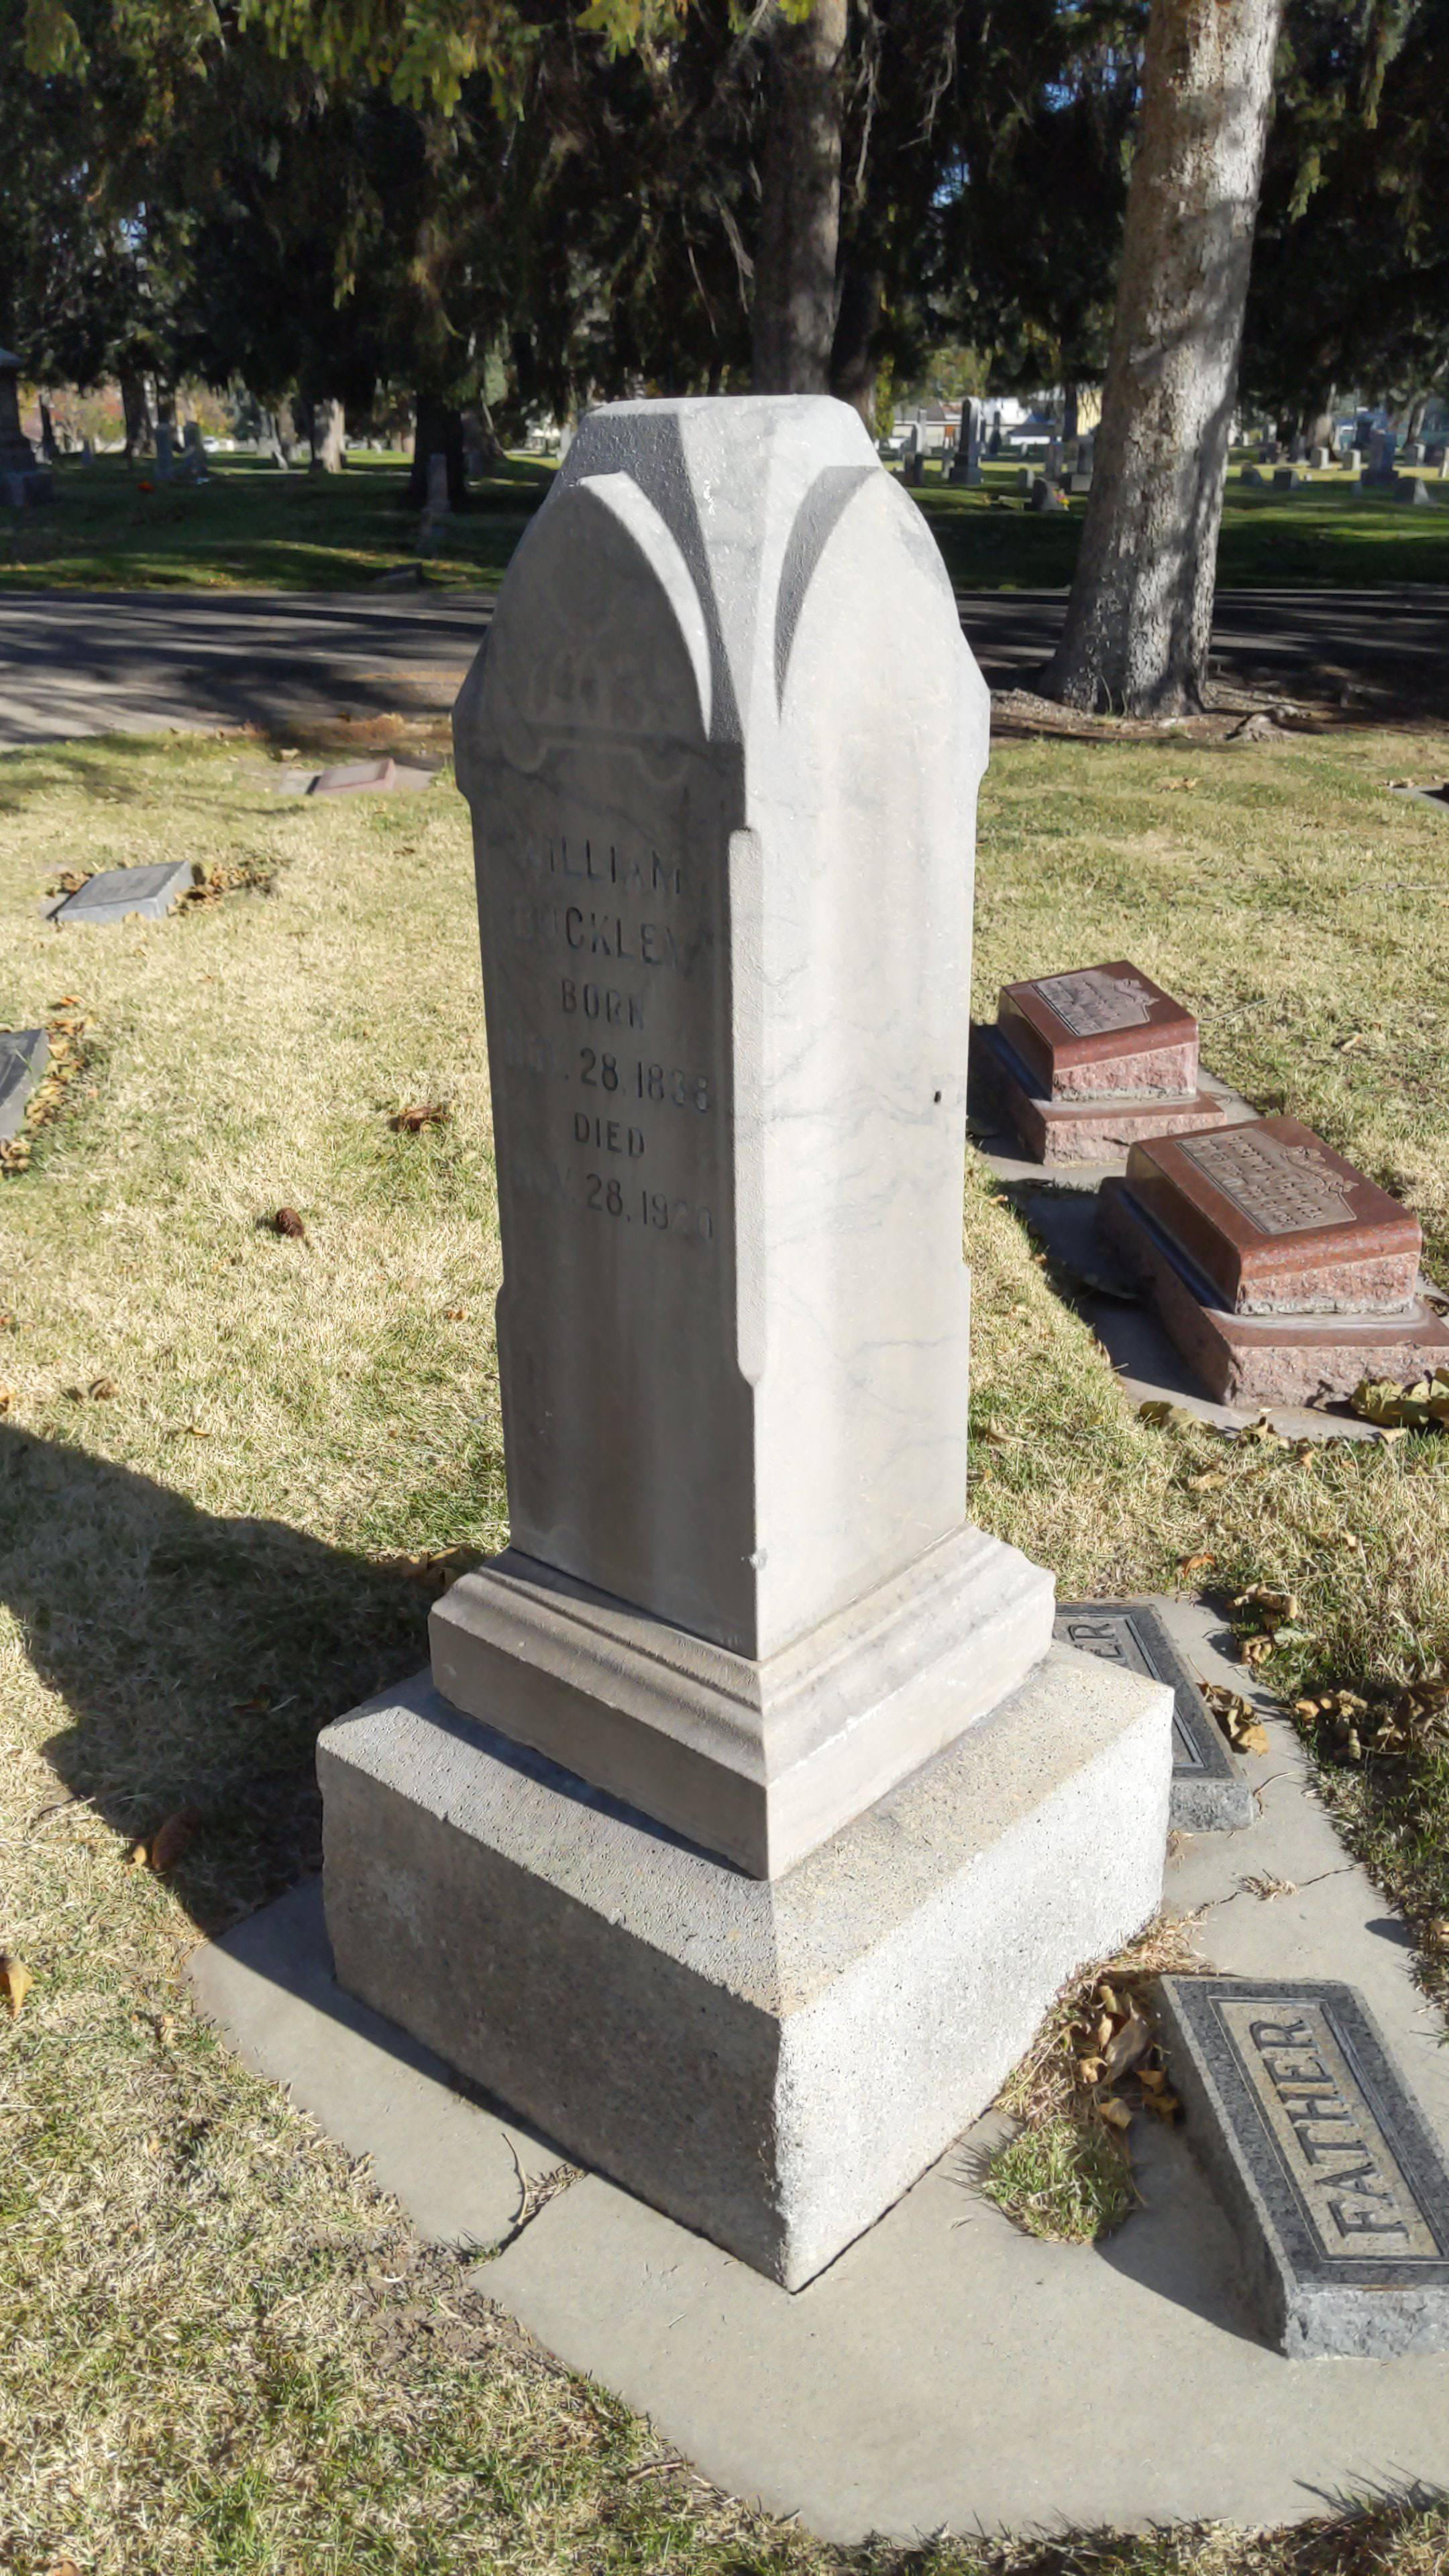obelisk: (425, 389, 1058, 1882)
